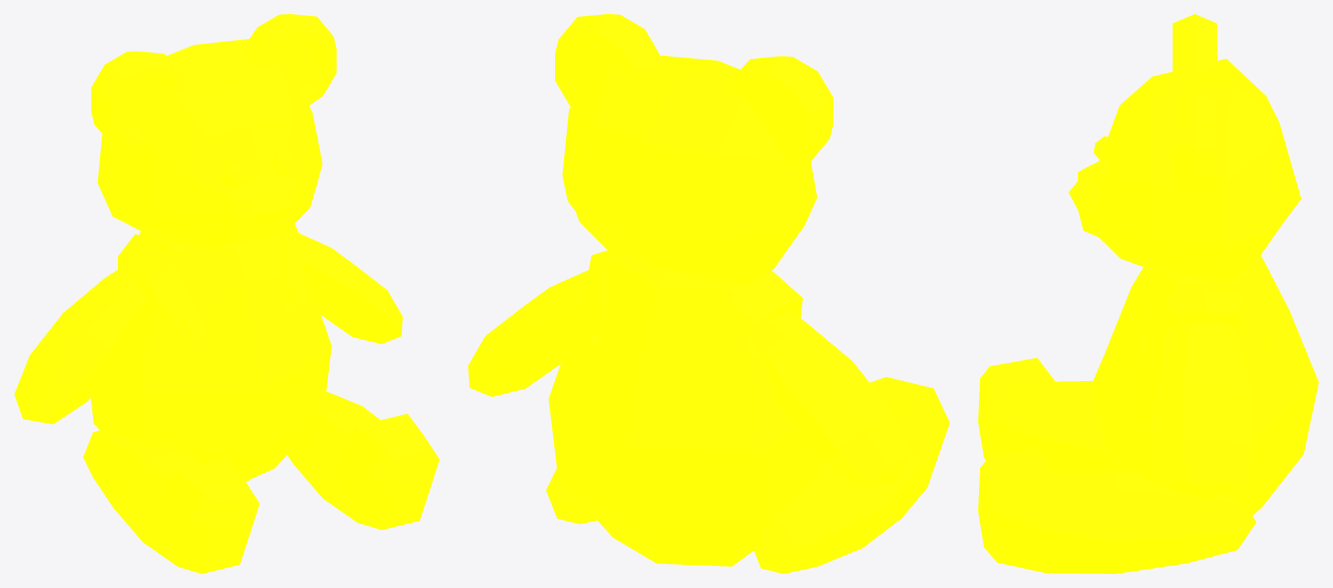
The model's file is toy-teddy-bear-b.glb.
3 renders of one model, left to right at view 1: azimuth 30°, elevation 25°; view 2: azimuth 150°, elevation 25°; view 3: azimuth 270°, elevation 25°, orthographic. The views are drawn at different scales.
Visible parts, largest first — view 1: toy_teddy_bear_b; view 2: toy_teddy_bear_b; view 3: toy_teddy_bear_b.
Part boxes in pixels (x1=…): toy_teddy_bear_b: x1=14, y1=14, x2=439, y2=573; toy_teddy_bear_b: x1=468, y1=14, x2=949, y2=573; toy_teddy_bear_b: x1=978, y1=14, x2=1318, y2=573.
Size of the model in its own units: 0.3136 by 0.3725 by 0.2447.
1 material, 1 textured.
